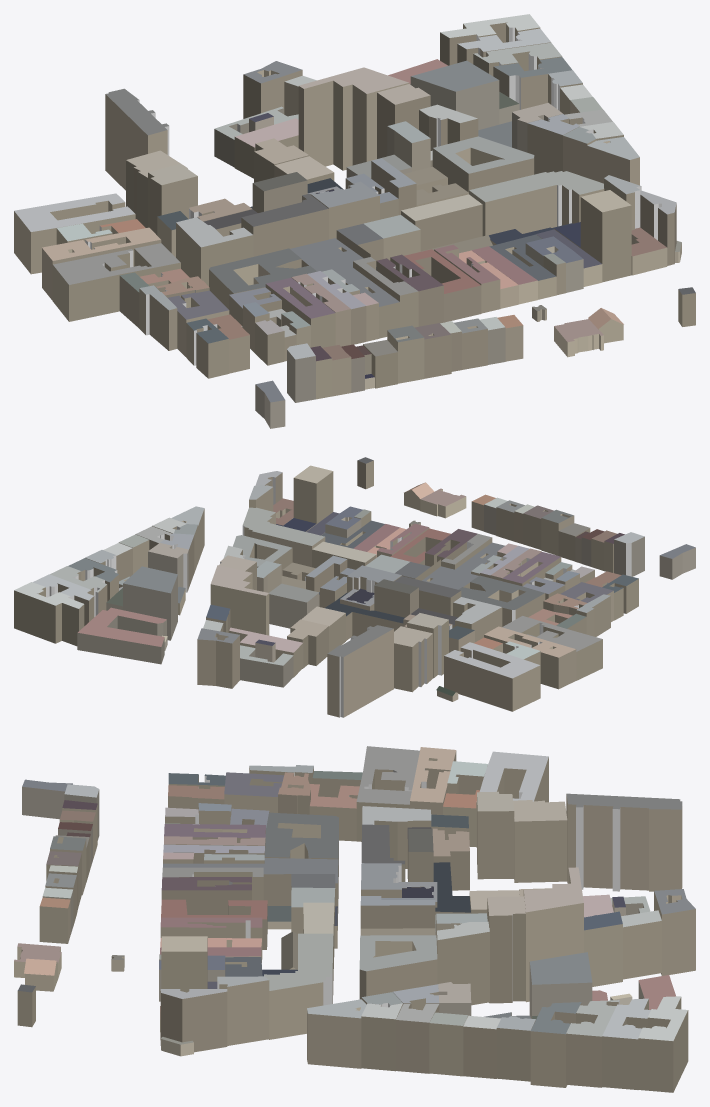
3 renders of one model, top to bottom at view 1: azimuth 30°, elevation 25°; view 2: azimuth 150°, elevation 25°; view 3: azimuth 270°, elevation 25°, orthographic. The views are drawn at different scales.
Parts seen in each view (by area): view 1: tuile; view 2: tuile; view 3: tuile.
Boxes of the visible parts, x1,y1,x2,y2 form: tuile: (14, 14, 695, 428); tuile: (14, 457, 695, 717); tuile: (14, 746, 695, 1092).
Size of the model in its own units: 287 by 38.43 by 262.
